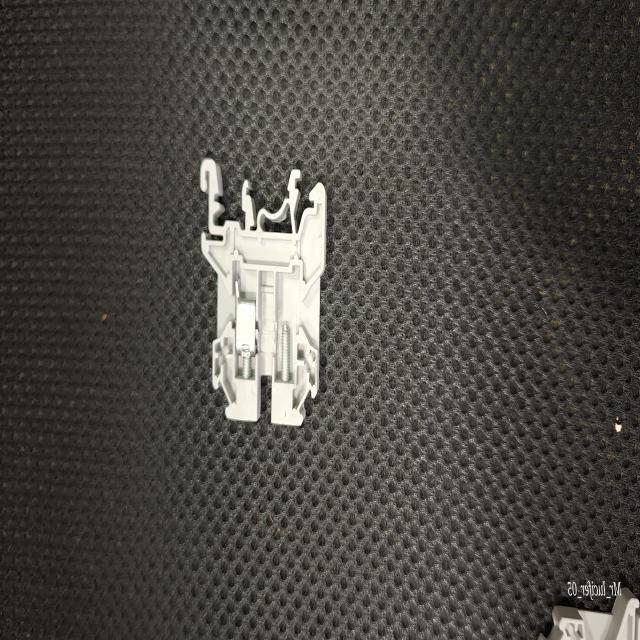Reject: (196, 150, 330, 436)
